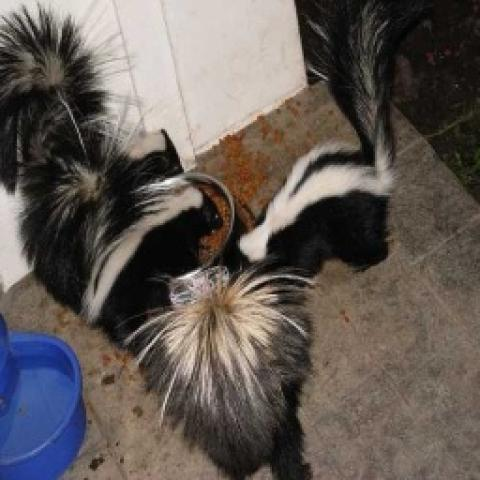small_animal: (6, 8, 225, 344), (236, 0, 441, 283), (136, 263, 318, 478)
